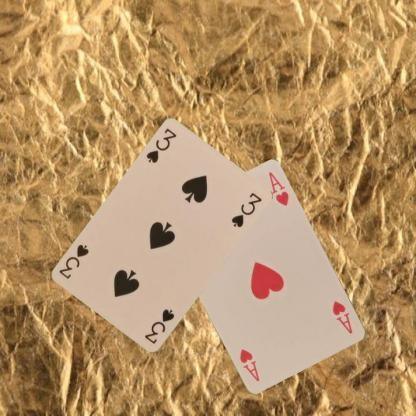3s: (143, 126, 178, 165), (141, 307, 176, 345)
Ah: (330, 298, 354, 335)
